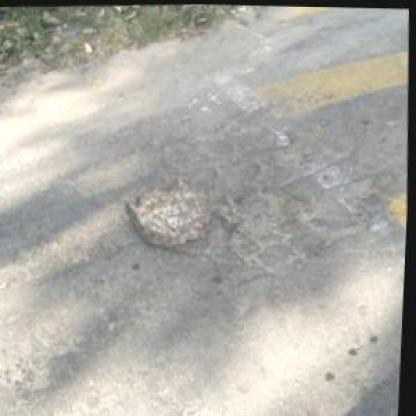pothole: (122, 176, 223, 254), (221, 183, 314, 243)
